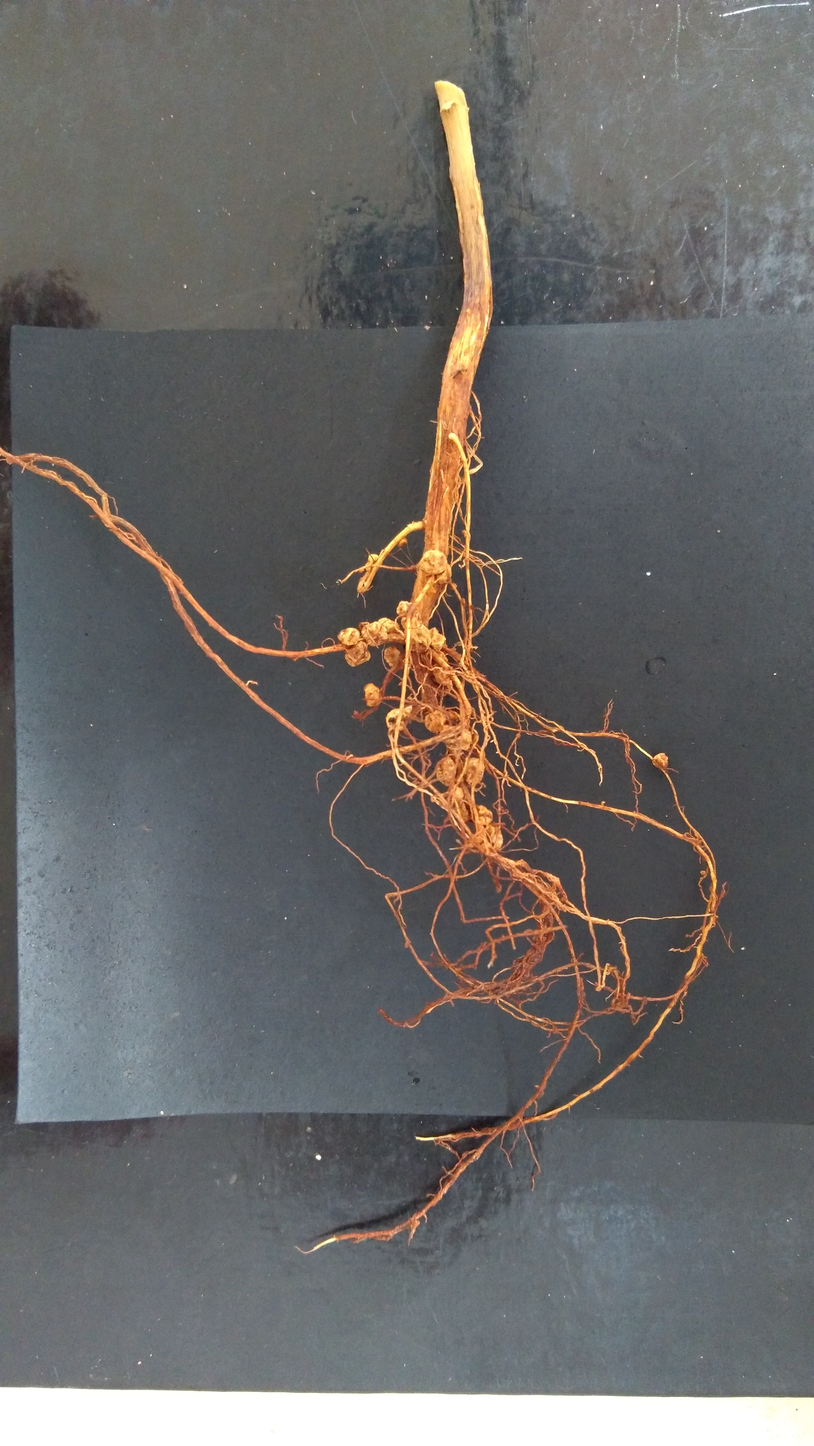nodule: (403, 623, 432, 654), (433, 756, 458, 789), (418, 548, 448, 575), (343, 640, 371, 667), (360, 621, 388, 647), (465, 755, 486, 789), (385, 705, 413, 730), (422, 709, 446, 734), (362, 681, 384, 708), (427, 625, 447, 653), (455, 728, 479, 751), (485, 824, 505, 851), (430, 666, 452, 688), (337, 626, 360, 646), (382, 645, 402, 668), (378, 616, 402, 635), (453, 798, 470, 823), (475, 803, 494, 825), (435, 563, 453, 585), (651, 751, 670, 771), (444, 708, 464, 726), (364, 553, 380, 573), (394, 599, 412, 615), (434, 649, 449, 663), (451, 786, 465, 799), (398, 537, 408, 548), (461, 528, 468, 539)
